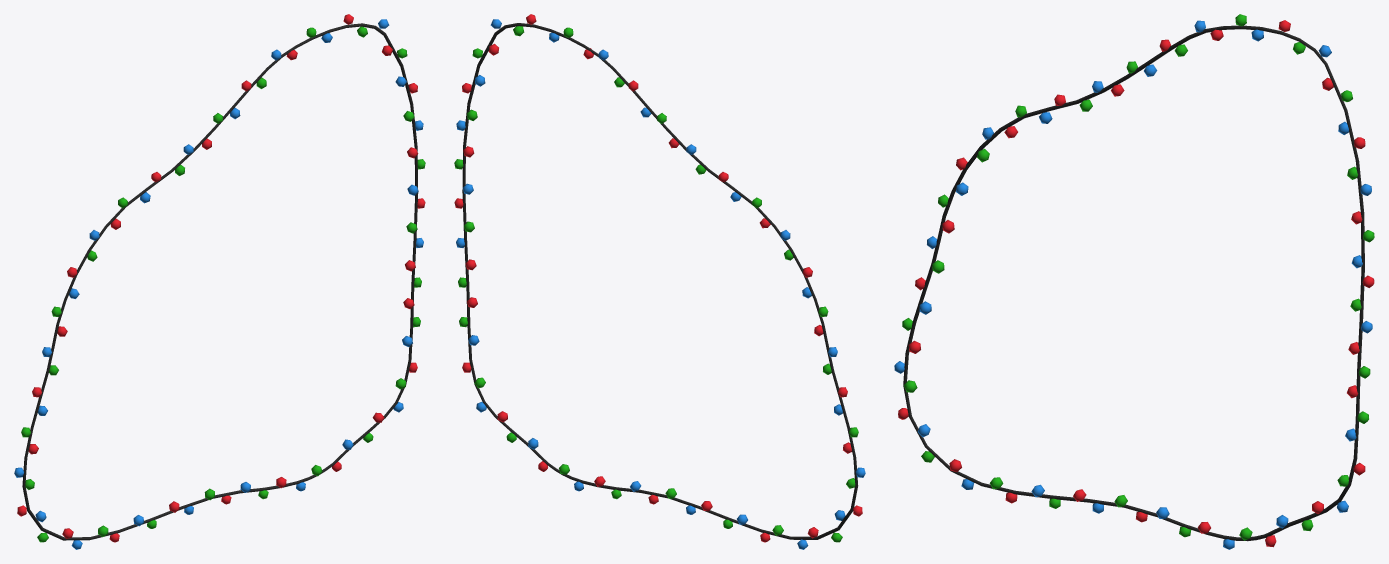
File: Lights.fbx
3 views of the same model, side by side, from view 1: azimuth 30°, elevation 25°; view 2: azimuth 150°, elevation 25°; view 3: azimuth 330°, elevation 25° (orthographic). The views are drawn at different scales.
Parts seen in each view (by area): view 1: Lights; view 2: Lights; view 3: Lights.
Part boxes in pixels (<box>): Lights: <box>14,14,425,549</box>; Lights: <box>454,14,865,549</box>; Lights: <box>894,14,1374,549</box>.
Size of the model in its own units: 5.12 by 4.68 by 0.1206.
